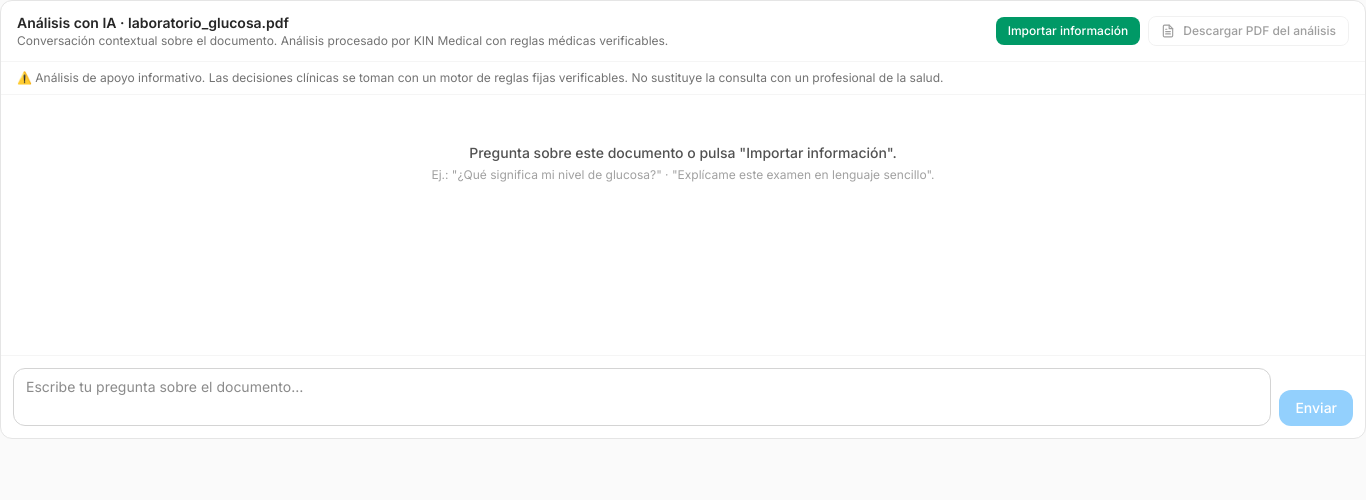
Test: DocumentChatPanel › muestra el error si el envío falla
Type "Hola" into the text box labelled "pregunta sobre el documento" at (642, 397), box left=13, top=368, right=1271, bottom=426
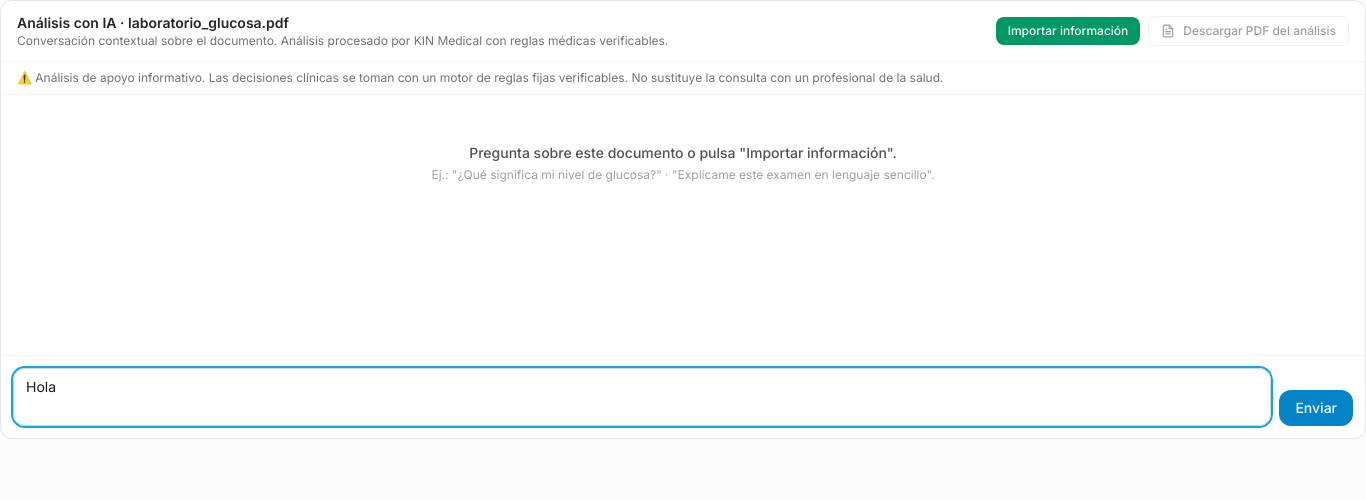
Click the button "Enviar" at (1316, 408), box left=1279, top=390, right=1353, bottom=426
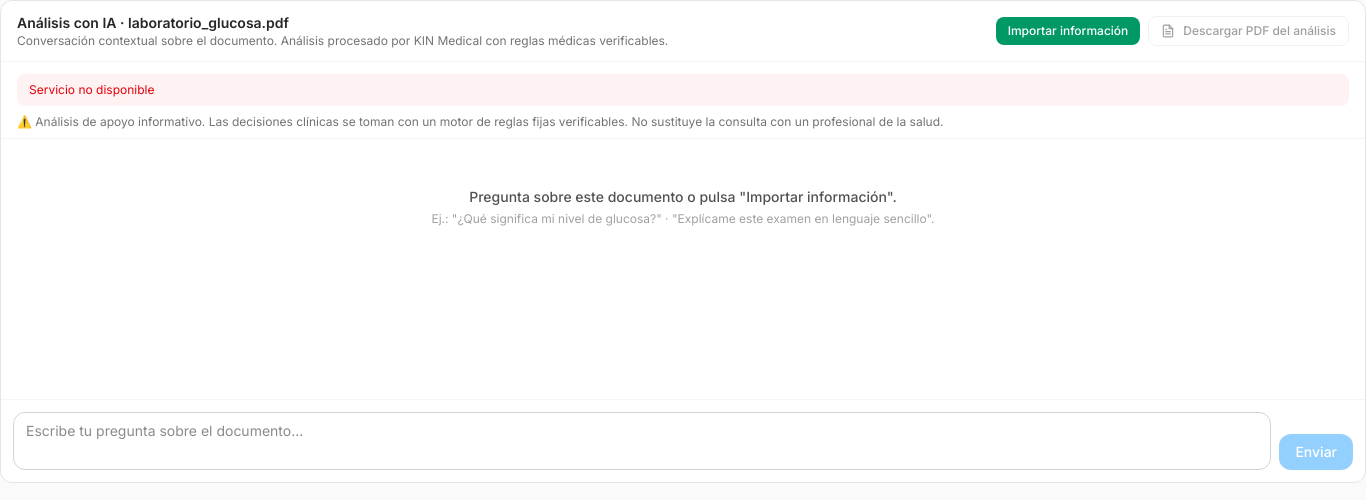
Result: the text "Servicio no disponible" is shown at left=17, top=74, right=1349, bottom=106
